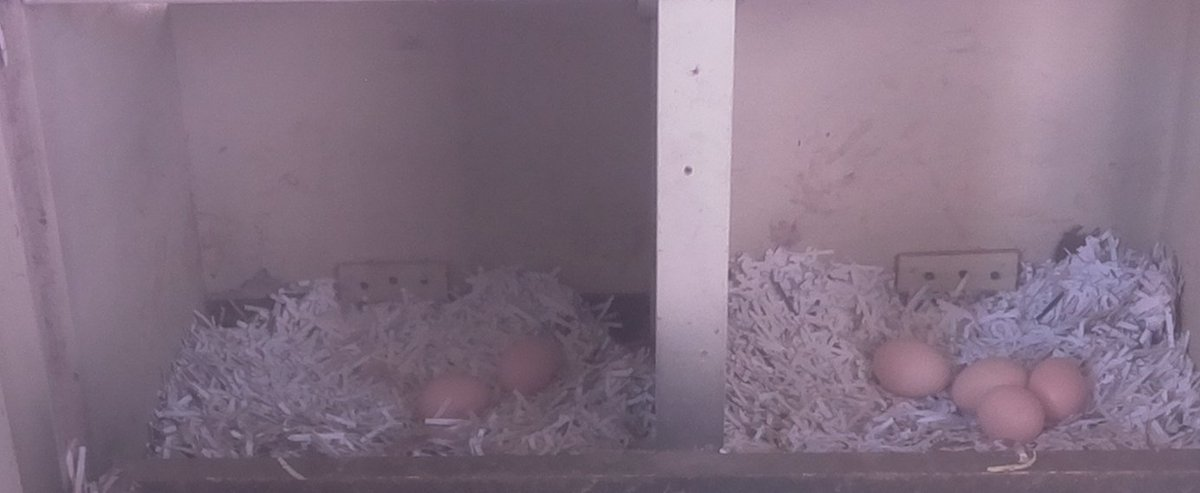egg: (866, 330, 958, 405), (1023, 354, 1096, 424), (976, 380, 1050, 449), (951, 355, 1030, 415), (416, 370, 497, 428), (496, 333, 567, 399)
